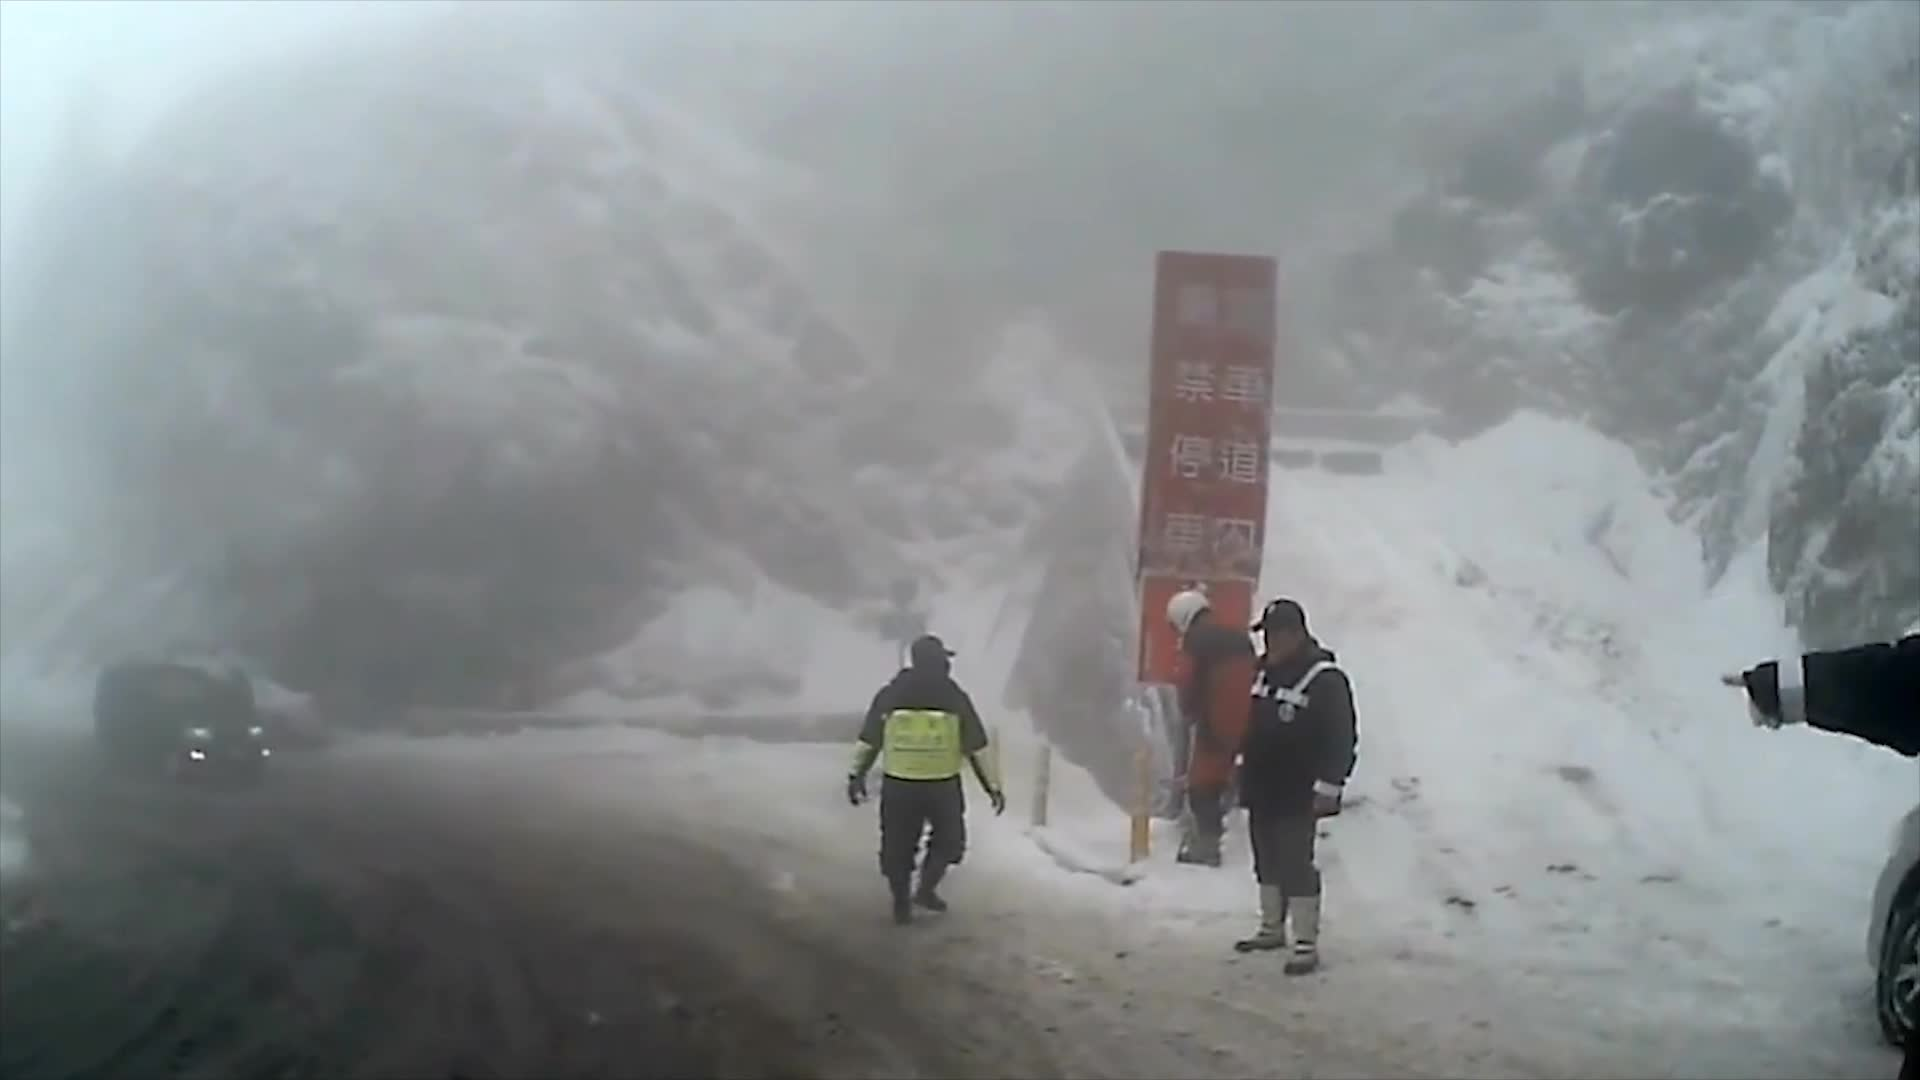pedestrian: (1235, 593, 1358, 982), (849, 625, 1007, 922), (1156, 591, 1265, 842)
vehicle: (90, 656, 268, 788)
